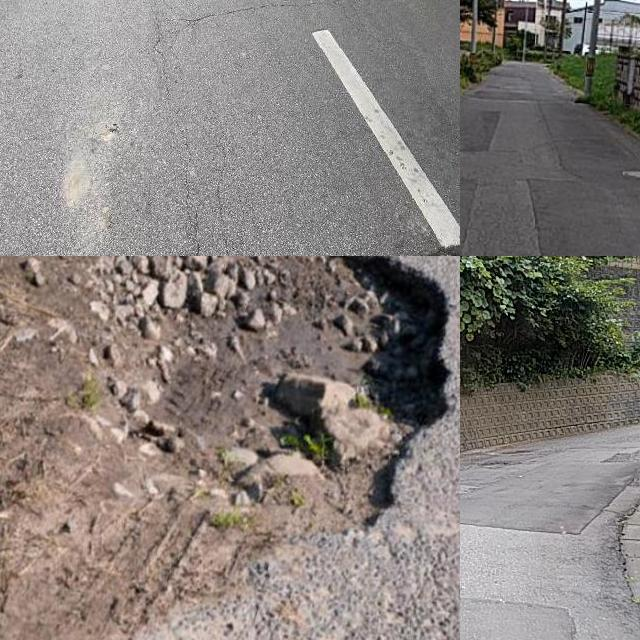Pinggir: (183, 256, 460, 576)
Sambungan: (460, 460, 638, 533), (536, 107, 640, 171), (460, 103, 504, 148)
